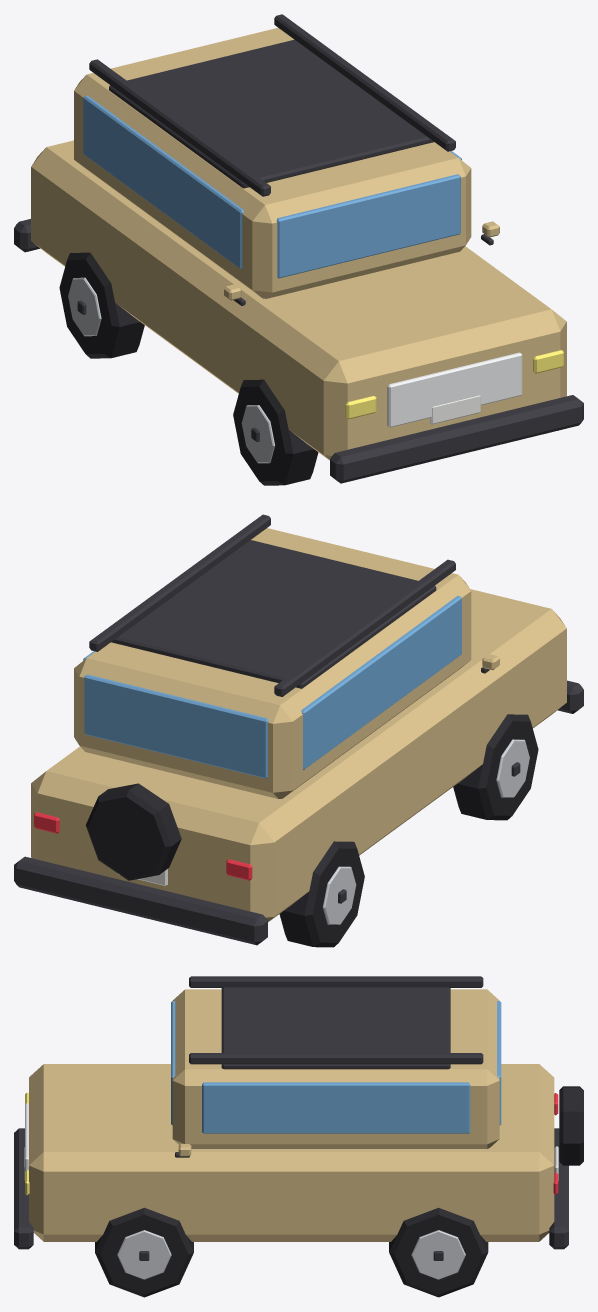
Rendered from TanSUV.fbx.
3 views of the same model, one above another, from view 1: azimuth 30°, elevation 25°; view 2: azimuth 150°, elevation 25°; view 3: azimuth 270°, elevation 25° (orthographic). The views are drawn at different scales.
Parts seen in each view (by area): view 1: TanSUV, TanSUV_WheelBR, TanSUV_WheelFR; view 2: TanSUV, TanSUV_WheelBR, TanSUV_WheelFR; view 3: TanSUV, TanSUV_WheelBL, TanSUV_WheelFL.
Part boxes in pixels (bbox=[...]): TanSUV: bbox=[14, 14, 583, 483]; TanSUV_WheelBR: bbox=[59, 252, 144, 358]; TanSUV_WheelFR: bbox=[233, 379, 318, 485]; TanSUV: bbox=[14, 514, 583, 945]; TanSUV_WheelBR: bbox=[279, 841, 364, 947]; TanSUV_WheelFR: bbox=[453, 714, 538, 820]; TanSUV: bbox=[14, 976, 583, 1249]; TanSUV_WheelBL: bbox=[389, 1207, 488, 1297]; TanSUV_WheelFL: bbox=[95, 1207, 193, 1297].
Size of the model in its own units: 5.35 by 5.15 by 11.5.
1 material, 1 textured.
